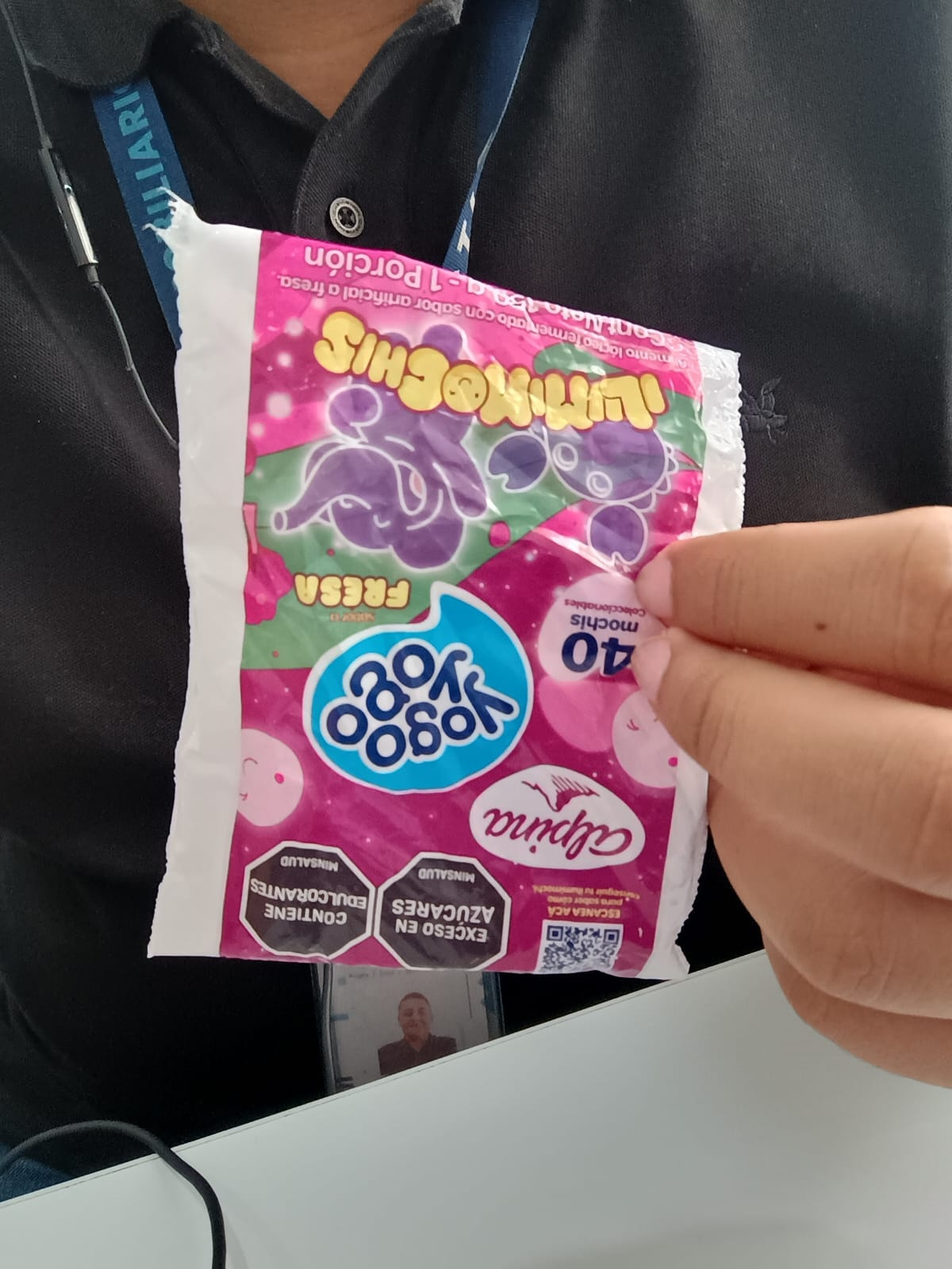Ordinario: (143, 227, 752, 981)
